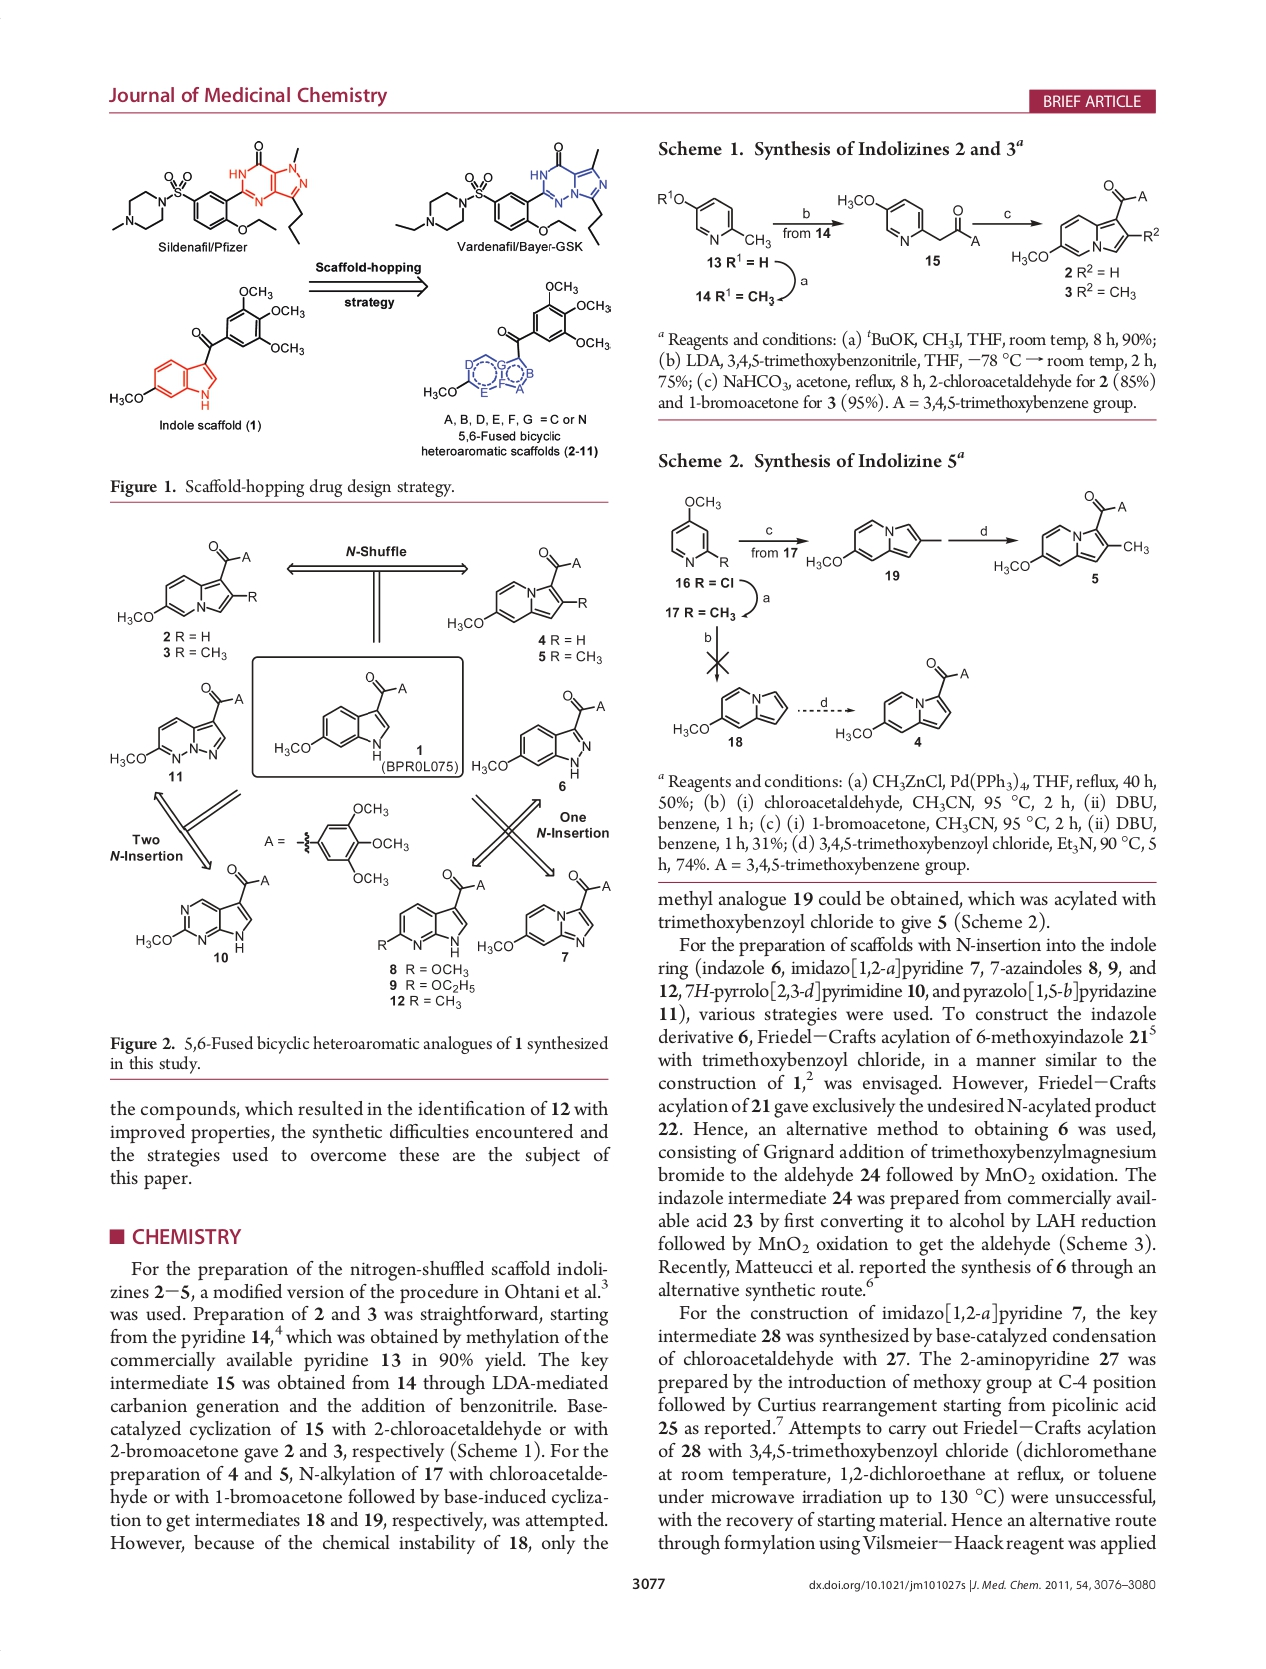exist_molecular: (109, 286, 309, 410), (418, 278, 618, 399), (110, 138, 310, 254), (396, 142, 610, 250), (993, 488, 1152, 575), (1009, 178, 1162, 266), (273, 668, 411, 762), (469, 688, 605, 782), (132, 862, 270, 954), (114, 537, 257, 626), (444, 547, 590, 630), (832, 656, 969, 742), (109, 681, 245, 767), (477, 868, 610, 954), (376, 867, 485, 960), (293, 799, 410, 886), (834, 192, 981, 251), (656, 186, 773, 251), (805, 517, 946, 571), (670, 686, 790, 738), (668, 489, 731, 569)
